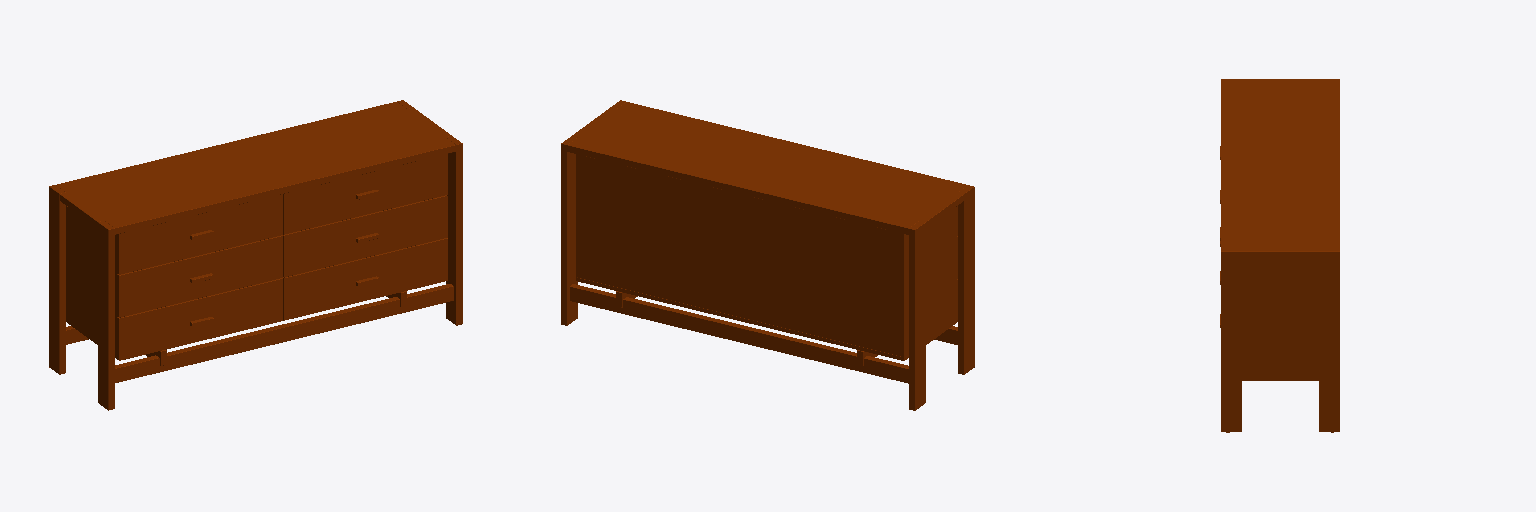
The picture shows the model from 3 angles: view 1: azimuth 30°, elevation 25°; view 2: azimuth 150°, elevation 25°; view 3: azimuth 270°, elevation 25°; orthographic projection.
Parts seen in each view (by area): view 1: Ainsley; view 2: Ainsley; view 3: Ainsley.
Part boxes in pixels (x1,y1,x2,y2): Ainsley: (49,100,462,410); Ainsley: (561,100,974,410); Ainsley: (1220,79,1339,432).
Bounding box in the file's own units: 1650 × 810 × 483.